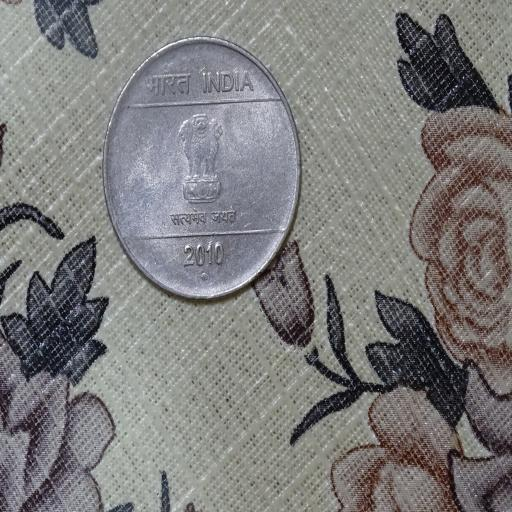rupee2: (101, 38, 300, 299)
